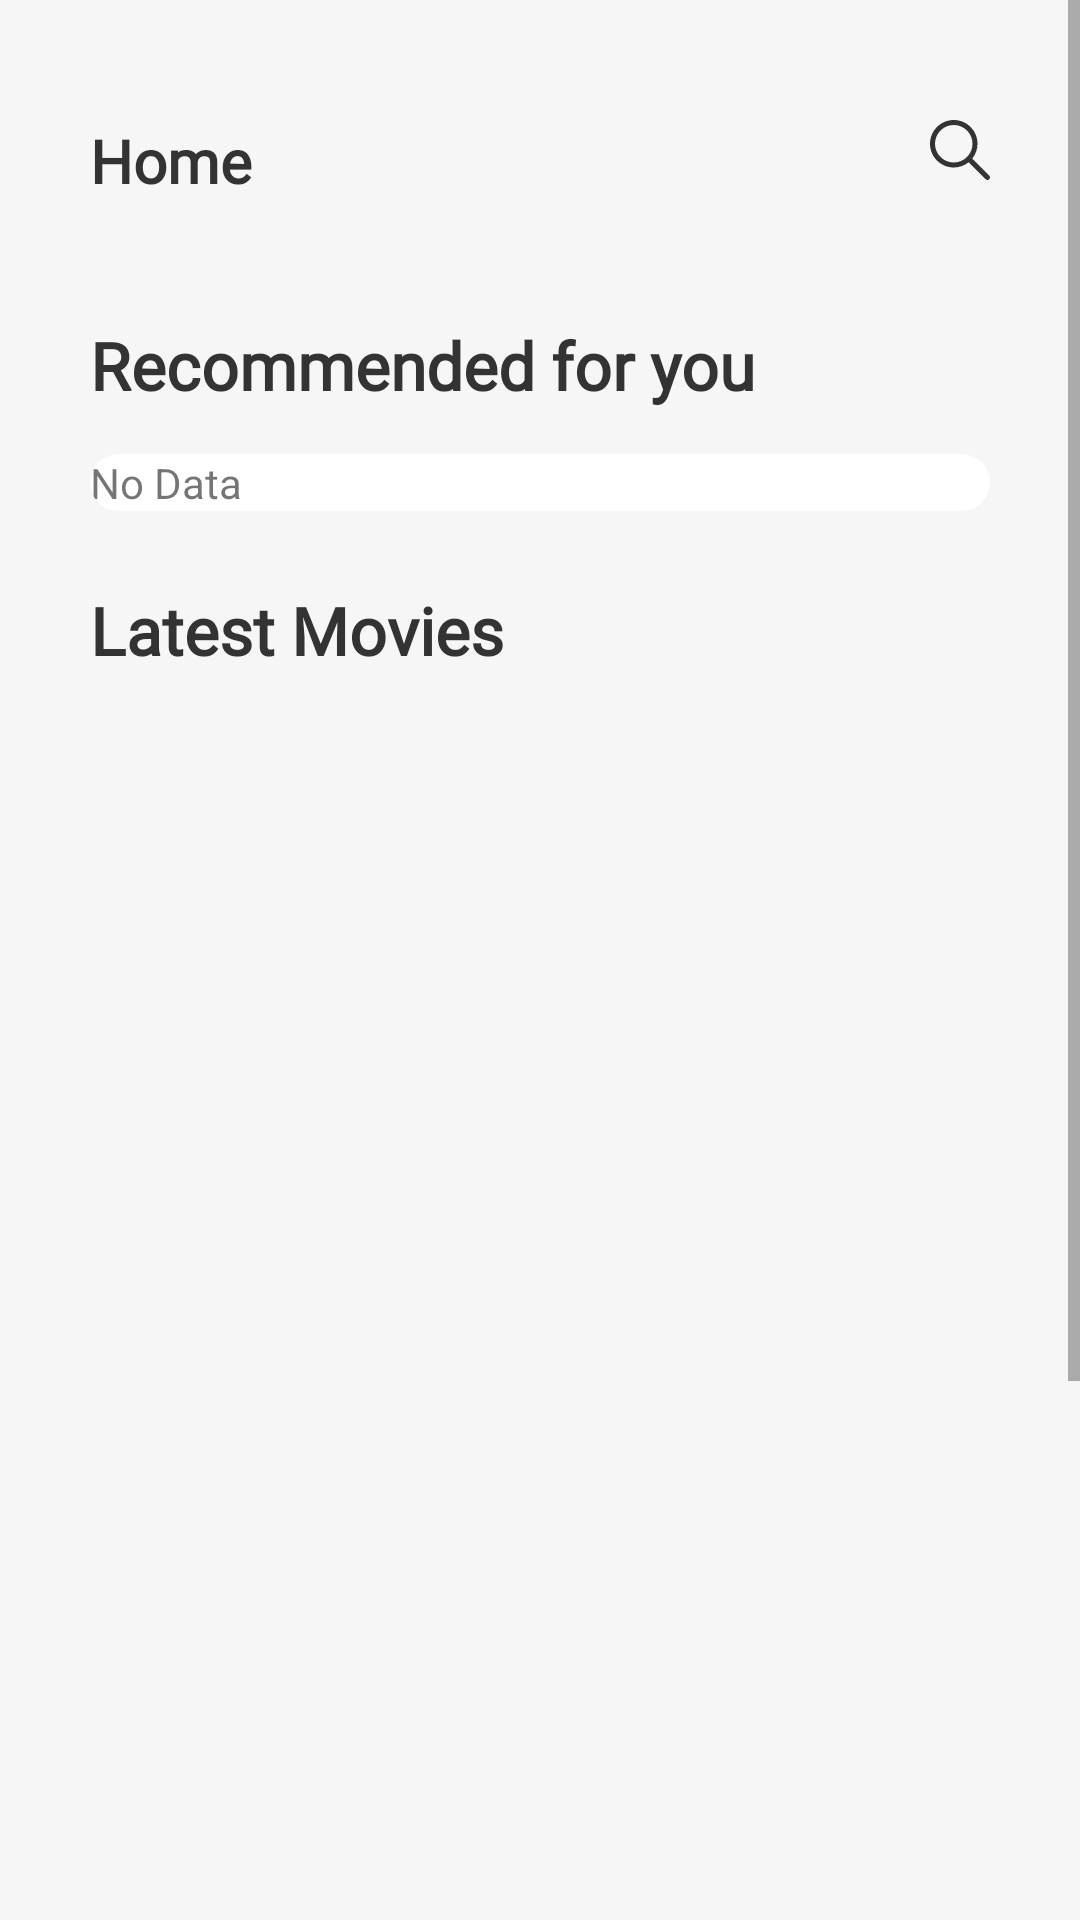

Point at icon controls on the screen. Image size 1080 × 1920, points as point (x, y).
search: point (960, 150)
